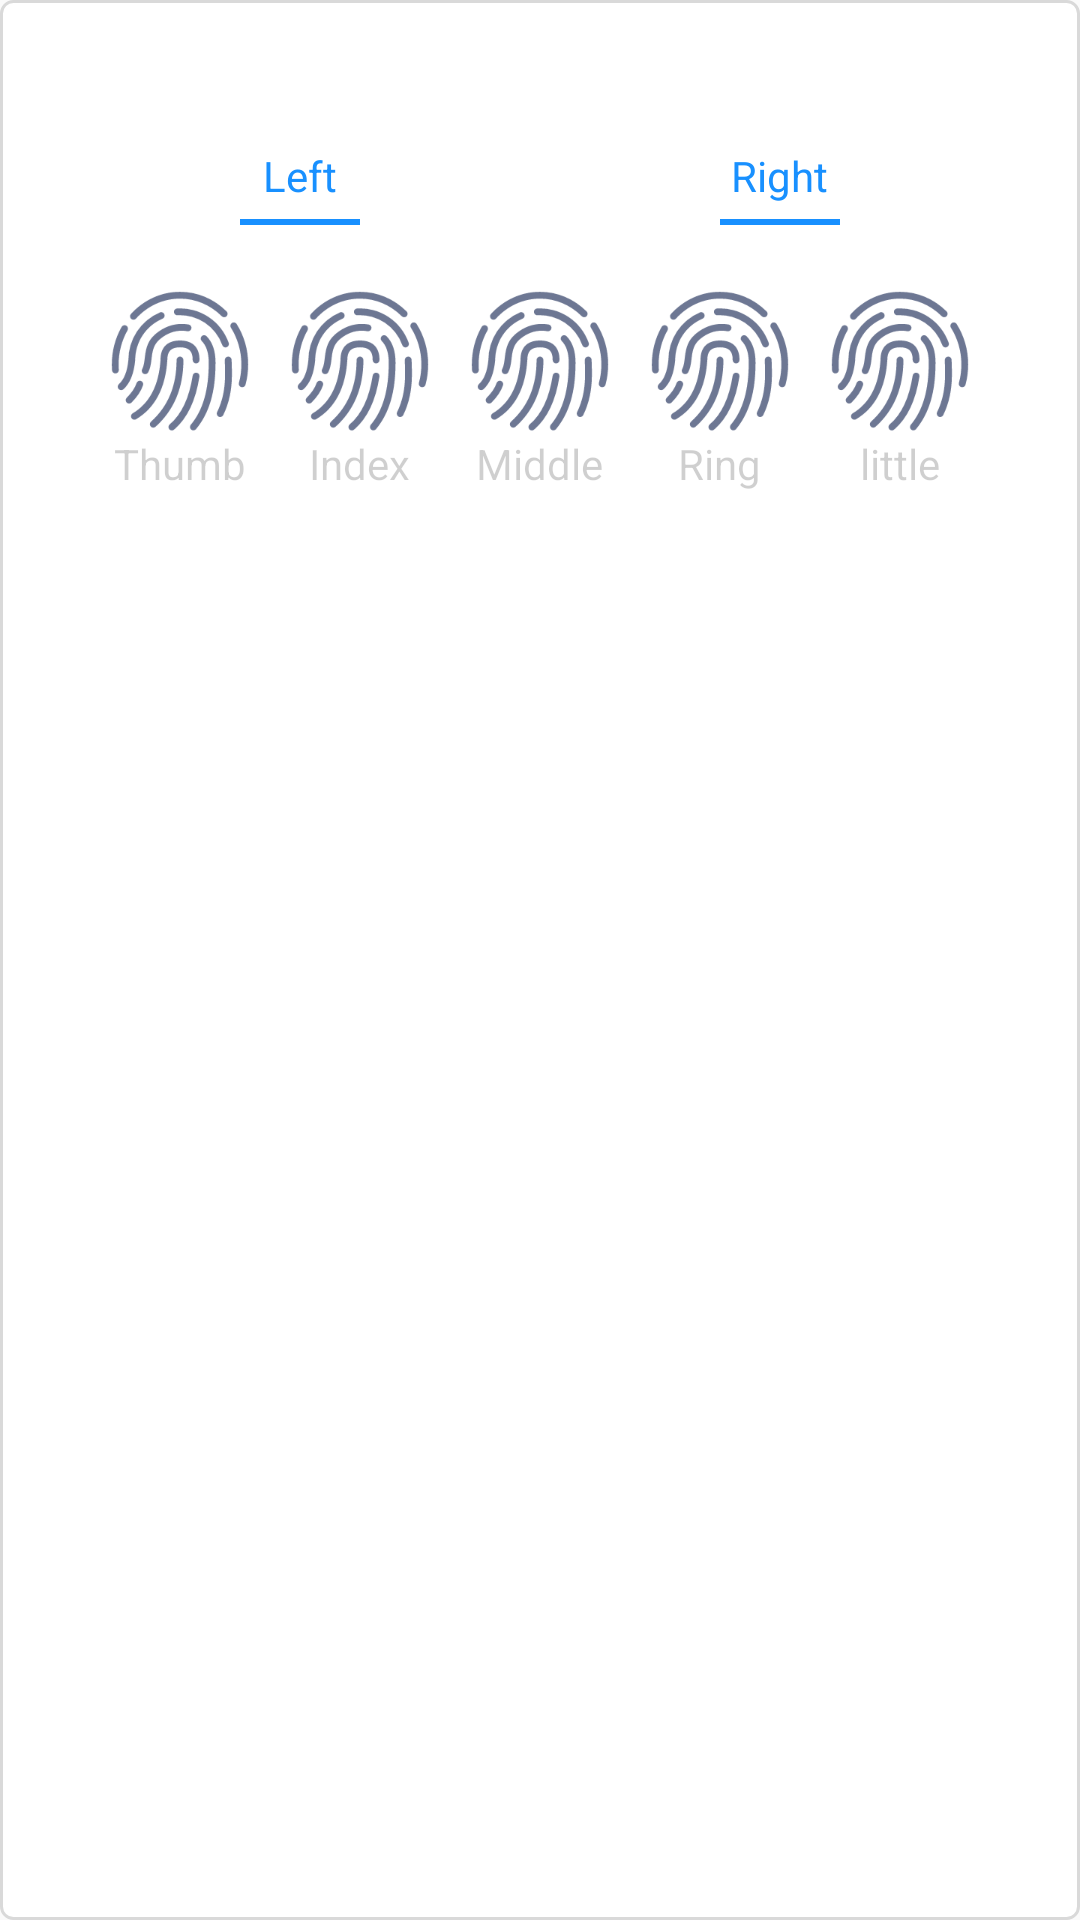

Screen size 1080w x 1920h. Icon name, then its box in pixels as bbox(x1, y1, x2, y2):
finger: bbox(112, 292, 248, 431), bbox(292, 292, 428, 431), bbox(472, 292, 608, 431), bbox(652, 292, 788, 431), bbox(832, 292, 968, 431)
